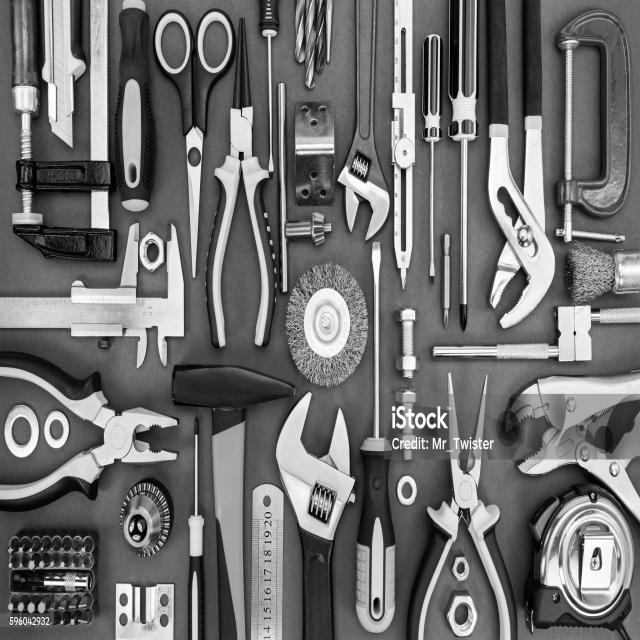c_clamp: (7, 0, 117, 266), (543, 0, 640, 249)
file: (112, 0, 157, 208)
hammer: (175, 356, 299, 640)
measuring_tape: (511, 483, 639, 639)
nuts: (446, 555, 487, 640), (140, 227, 167, 277)
pliers: (0, 350, 182, 520), (404, 361, 516, 637), (206, 9, 285, 358)
ruler: (241, 478, 291, 640)
scissors: (152, 3, 237, 276)
screwdriver: (352, 230, 401, 640), (6, 512, 100, 635), (450, 0, 484, 333), (423, 25, 447, 288), (185, 415, 209, 640), (260, 0, 279, 180)
utility_knife: (40, 0, 87, 153)
vernier_caliper: (0, 215, 194, 380)
washer: (0, 406, 74, 468)
wrench: (479, 0, 563, 336), (495, 363, 640, 542), (264, 383, 357, 640), (340, 0, 394, 240)
